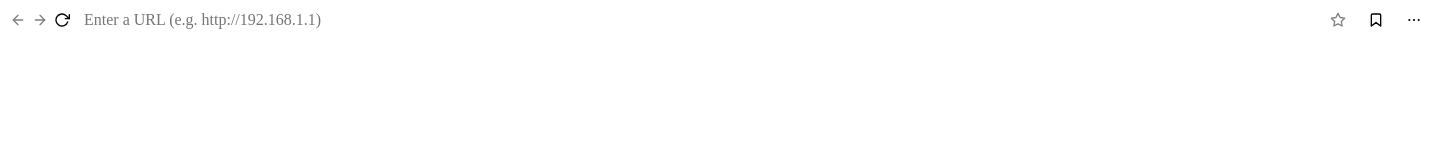
Test: WebBrowserPane › keeps the webview visible (does not hide it) while the bookmarks panel is open
The image size is (1437, 160).
Click the button named "Show bookmarks" at (1376, 20), box [1360,6,1392,34]
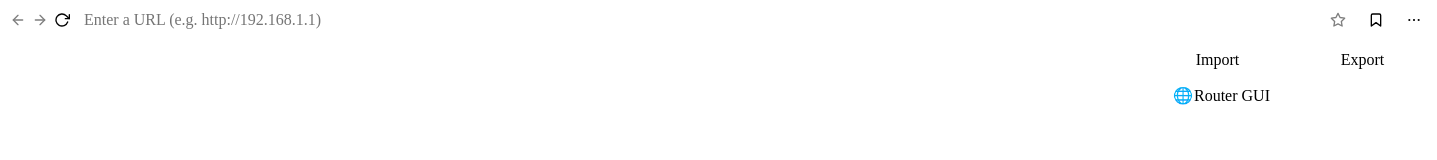
Check: the text "Router GUI" is shown, box [1194,86,1270,104]
